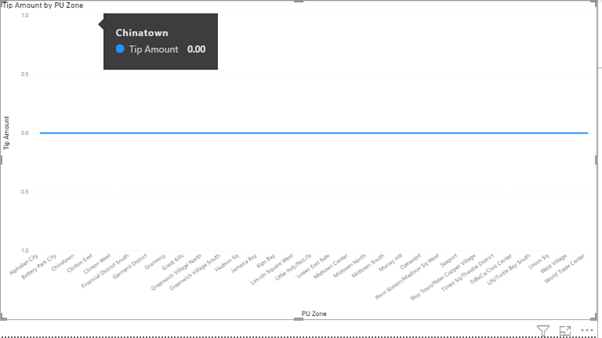

What the dashboard file says about the page in this screenshot:
{"tool":"powerbi","page":{"name":"Page 2","canvas":[1280,720],"ordinal":1},"visuals":[{"type":"lineChart","fields":{"Category":["Dim PU Location.PU Zone"],"Y":["Fact GT2020.Tip Amount"]},"box":[10.1,0,1269.9,720.6],"z":0}]}

Visuals, with their boxes on the page's 1280x720 design canvas (x1, y1, x2, y2). These are canvas units, not pixel positions in the 602x338 screenshot, which may show the page scaled, cropped or inside an application window:
lineChart - Dim PU Location.PU Zone x Fact GT2020.Tip Amount: [10, 0, 1280, 721]
